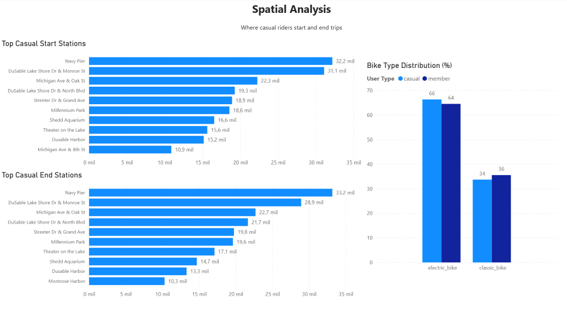

The page's visual inventory and layout, read from the dashboard file:
{"tool":"powerbi","page":{"name":"Spatial Analysis","canvas":[1280,720],"ordinal":2},"visuals":[{"type":"textbox","box":[287.9,0,727.7,89],"z":0},{"type":"clusteredBarChart","title":"Top Casual Start Stations","fields":{"Category":["top_casual_start_stations.start_station_name"],"Y":["Sum(top_casual_start_stations.total_rides)"]},"box":[0,89,814.7,293.8],"z":1000},{"type":"clusteredBarChart","title":"Top Casual End Stations","fields":{"Category":["top_casual_end_stations.end_station_name"],"Y":["Sum(top_casual_end_stations.total_rides)"]},"box":[0,382.8,814.7,293.8],"z":2000},{"type":"clusteredColumnChart","title":"Bike Type Distribution (%)","fields":{"Category":["rides_by_bike_type.rideable_type"],"Y":["Sum(rides_by_bike_type.percentage)"],"Series":["rides_by_bike_type.member_casual"]},"box":[814.7,138.1,437.1,480.3],"z":3000}]}

Visuals, with their boxes in screenshot pixels (x1, y1, x2, y2), scaled from the page's 1280x720 canvas onto the 567x315 screenshot:
textbox: l=128, t=0, r=450, b=39
"Top Casual Start Stations" clusteredBarChart: l=0, t=39, r=361, b=167
"Top Casual End Stations" clusteredBarChart: l=0, t=167, r=361, b=296
"Bike Type Distribution (%)" clusteredColumnChart: l=361, t=60, r=555, b=271
